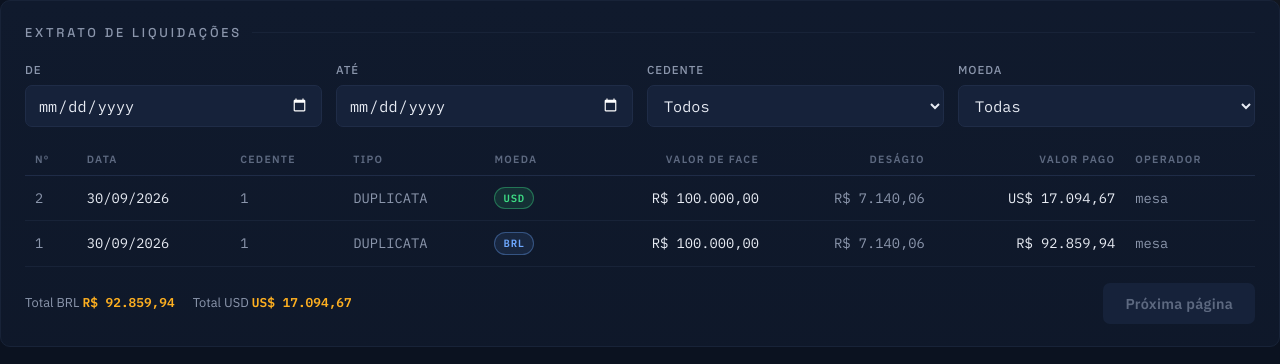
Test: SettlementsGrid: extrato server-side com filtros na URL › mudar o filtro de moeda reflete na URL e refaz a busca com o filtro
Expected: the text "R$ 92.859,94" is shown, [935,221,1125,266]
Select "USD" in the dropdown labelled "Moeda" at [1106, 106], box [958,85,1255,127]
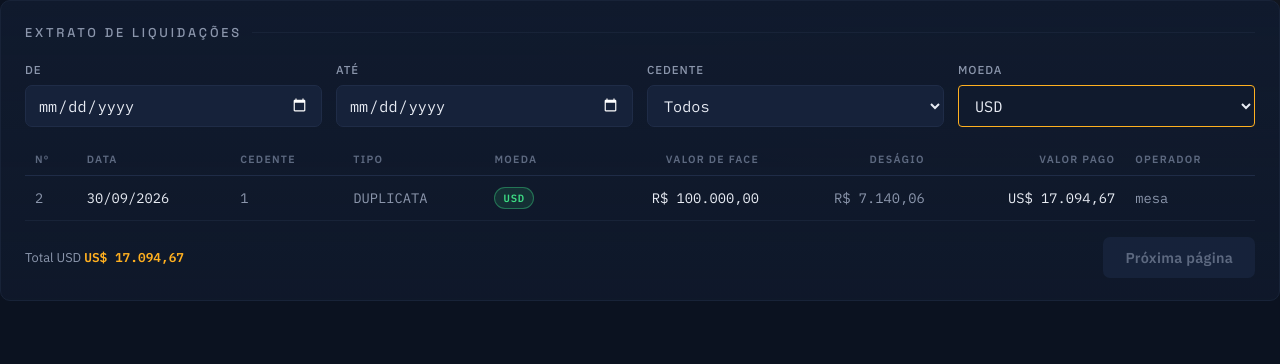
Expected: the text "R$ 92.859,94" is gone
